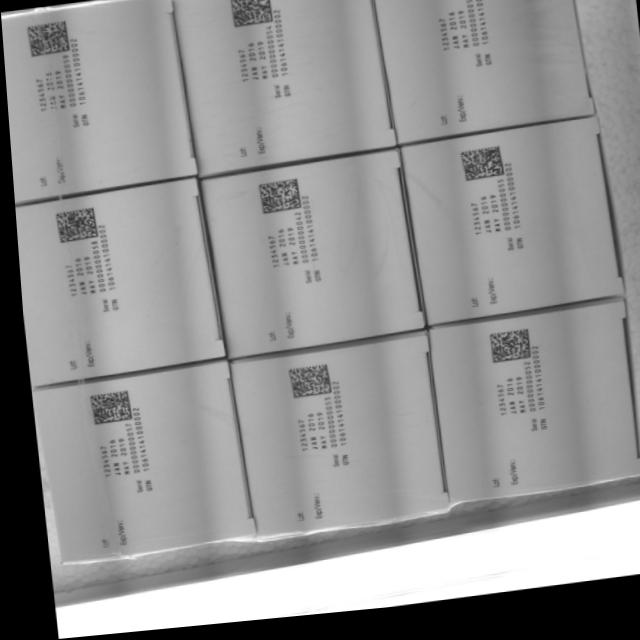datamatrix: (23, 20, 71, 60), (455, 152, 503, 192), (80, 388, 127, 428), (51, 206, 98, 245), (279, 367, 326, 406), (253, 182, 300, 221), (480, 335, 527, 374), (229, 1, 276, 34), (427, 1, 474, 7)
